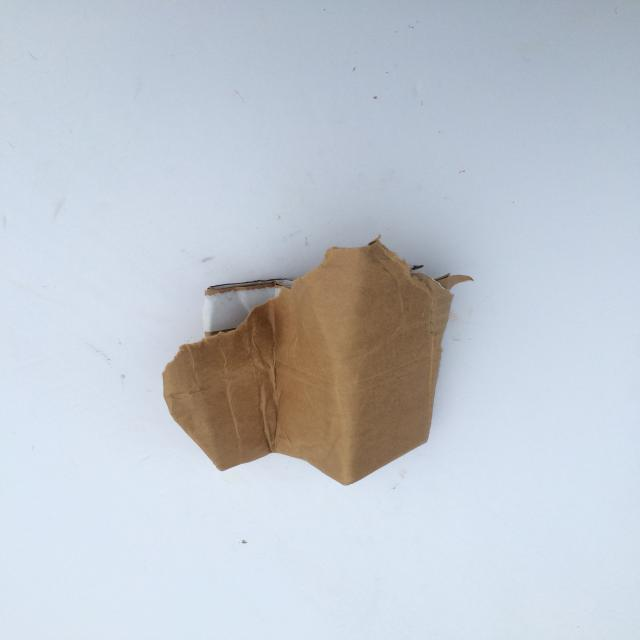cardboard: (161, 234, 473, 486)
